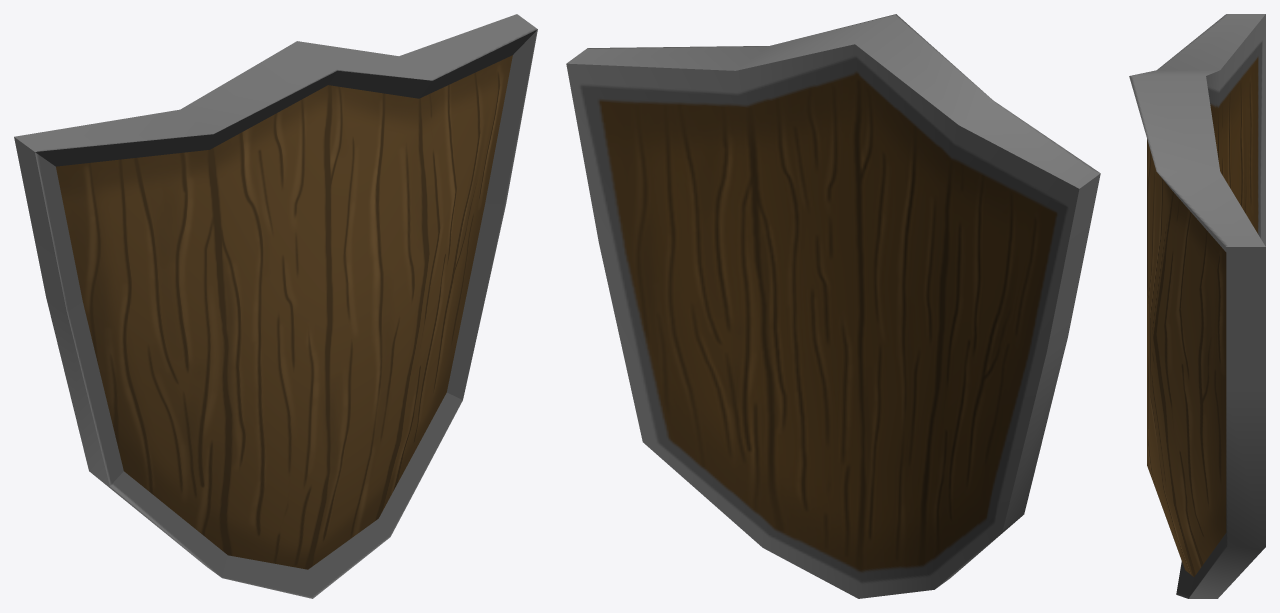
The model's file is Mimic_Mayhem_Shield.FBX.
3 views of the same model, side by side, from view 1: azimuth 30°, elevation 25°; view 2: azimuth 150°, elevation 25°; view 3: azimuth 270°, elevation 25° (orthographic). The views are drawn at different scales.
Visible parts, largest first — view 1: Box001; view 2: Box001; view 3: Box001.
Part boxes in pixels (x1,y1,x2,y2): Box001: (14, 14, 537, 598); Box001: (566, 14, 1100, 598); Box001: (1129, 14, 1265, 598).
Bounding box in the file's own units: 406 × 421 × 101.
